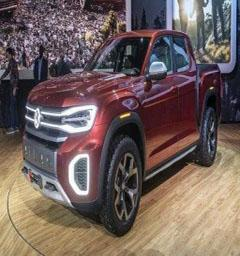car: (9, 21, 230, 237)
